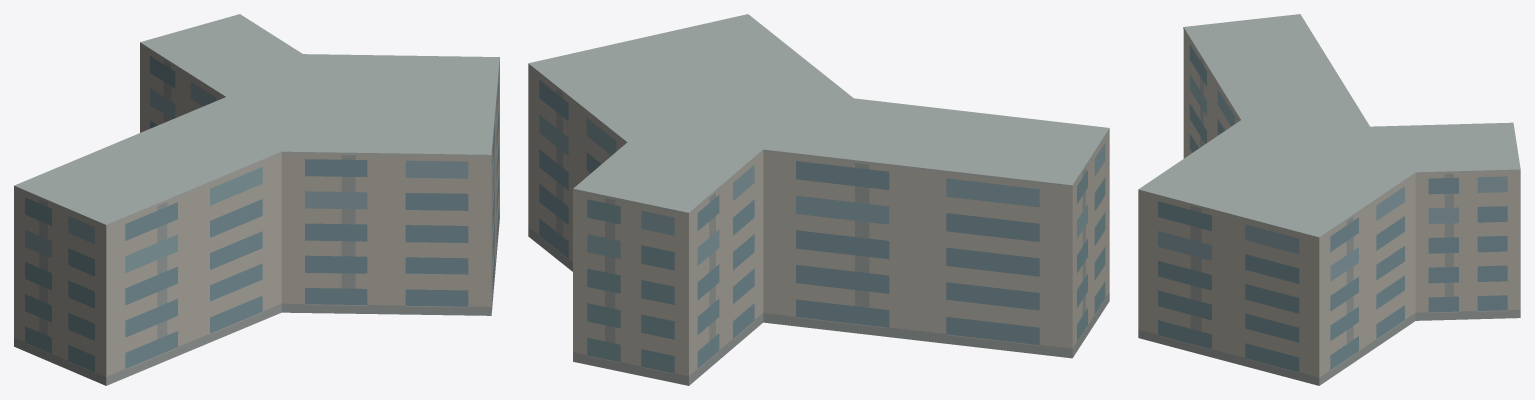
The model's file is residential-2448fd21-0a1a-4aeb-bf87-3e9a3a503932.glb.
The picture shows the model from 3 angles, left to right: view 1: azimuth 30°, elevation 25°; view 2: azimuth 150°, elevation 25°; view 3: azimuth 270°, elevation 25°; orthographic projection. The views are drawn at different scales.
Visible parts, largest first — view 1: residential-2448fd21-0a1a-4aeb-bf87-3e9a3a503932.tmp; view 2: residential-2448fd21-0a1a-4aeb-bf87-3e9a3a503932.tmp; view 3: residential-2448fd21-0a1a-4aeb-bf87-3e9a3a503932.tmp.
Part boxes in pixels (x1,y1,x2,y2): residential-2448fd21-0a1a-4aeb-bf87-3e9a3a503932.tmp: (14,14,499,385); residential-2448fd21-0a1a-4aeb-bf87-3e9a3a503932.tmp: (528,14,1109,385); residential-2448fd21-0a1a-4aeb-bf87-3e9a3a503932.tmp: (1138,14,1520,385).
Bounding box in the file's own units: 49.18 × 15.25 × 35.59.
